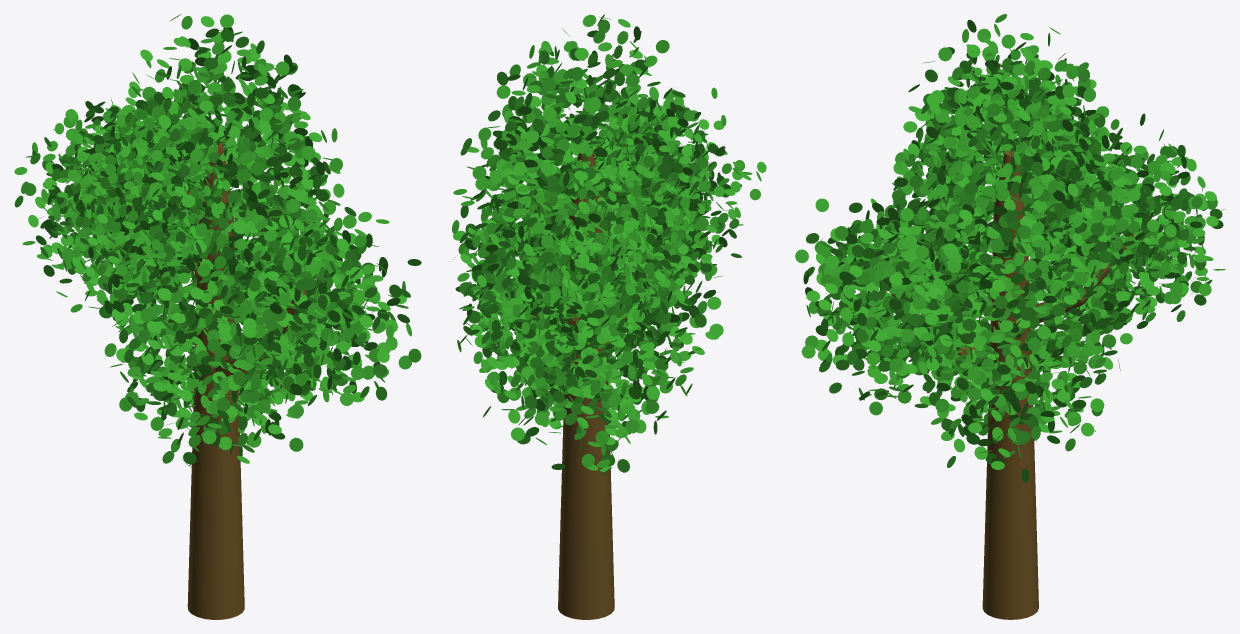
Rendered from Arbre7.fbx.
3 renders of one model, left to right at view 1: azimuth 30°, elevation 25°; view 2: azimuth 150°, elevation 25°; view 3: azimuth 270°, elevation 25°, orthographic.
Visible parts, largest first — view 1: Tree_07; view 2: Tree_07; view 3: Tree_07.
Boxes of the visible parts, box(x1,y1,x2,y2) form: Tree_07: box(14, 14, 421, 619); Tree_07: box(452, 14, 766, 619); Tree_07: box(795, 14, 1225, 619).
Bounding box in the file's own units: 9.08 × 18.02 × 12.
